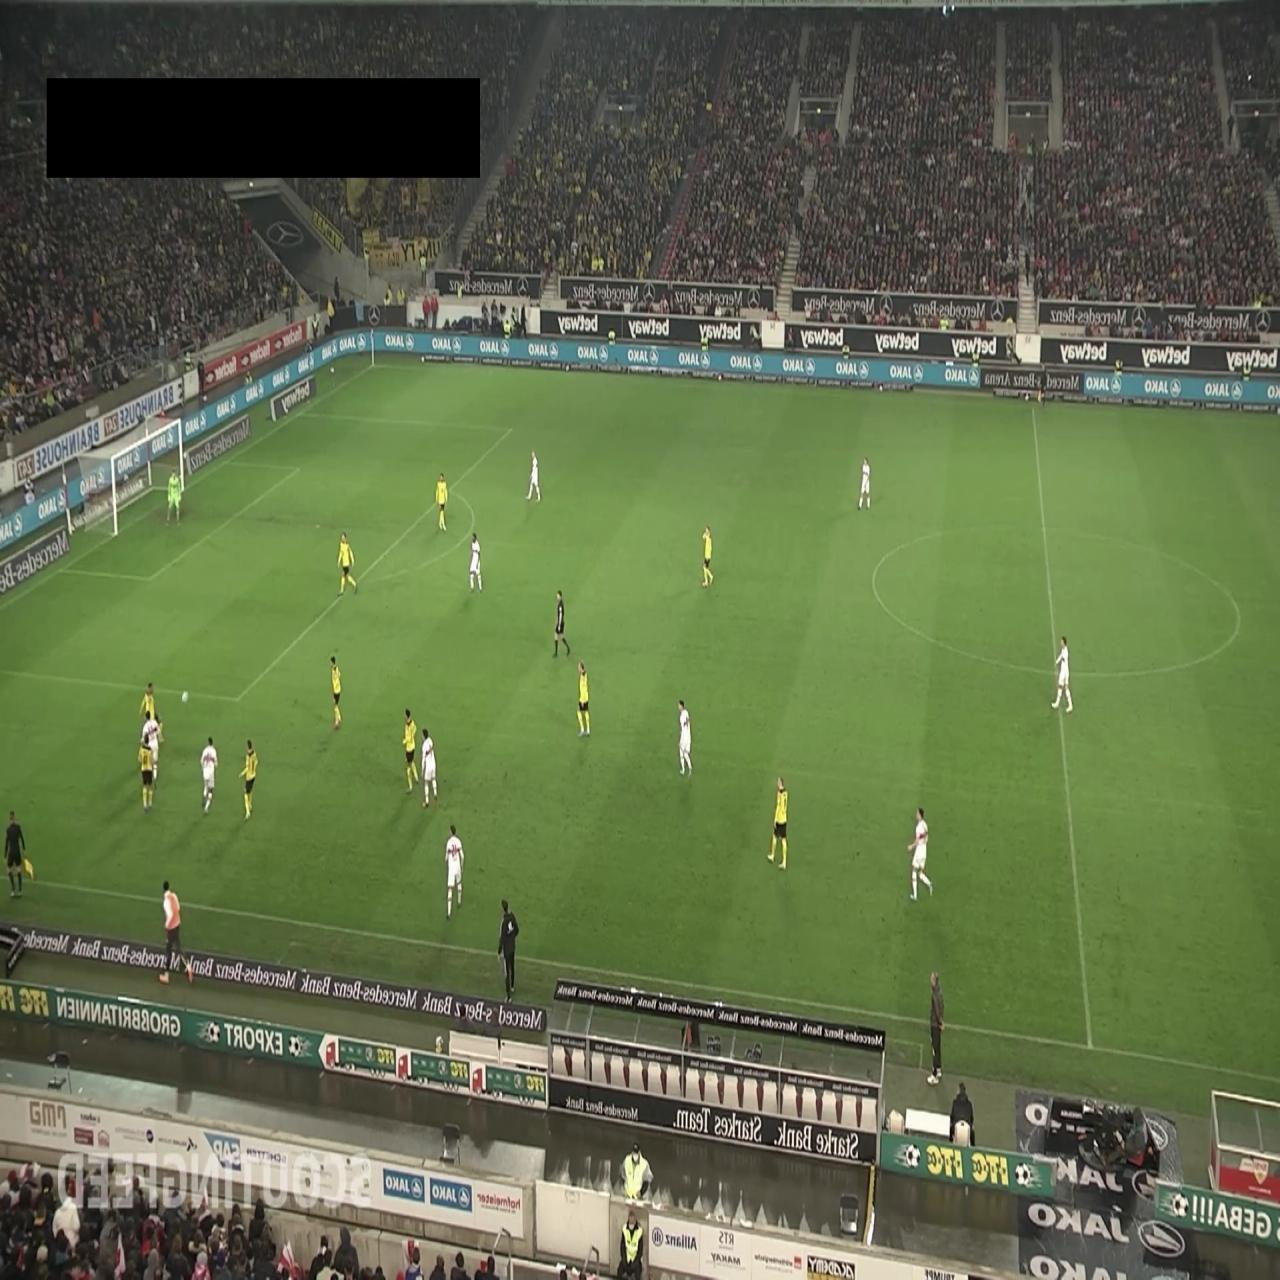ball: (182, 691, 189, 704)
goalkeeper: (165, 466, 182, 526)
player: (907, 807, 933, 902), (444, 822, 464, 919), (768, 775, 788, 870), (1052, 636, 1074, 714), (239, 739, 258, 820), (401, 706, 418, 793), (420, 728, 438, 809), (140, 710, 161, 779), (201, 735, 218, 814), (337, 531, 357, 595), (677, 698, 693, 776), (138, 735, 154, 812), (576, 660, 590, 737), (330, 654, 342, 730), (526, 449, 542, 503), (701, 525, 714, 588), (138, 683, 158, 723), (435, 471, 448, 532), (469, 532, 482, 593), (857, 455, 870, 510)
referee: (4, 810, 34, 900), (552, 590, 571, 658), (1037, 360, 1047, 408)
